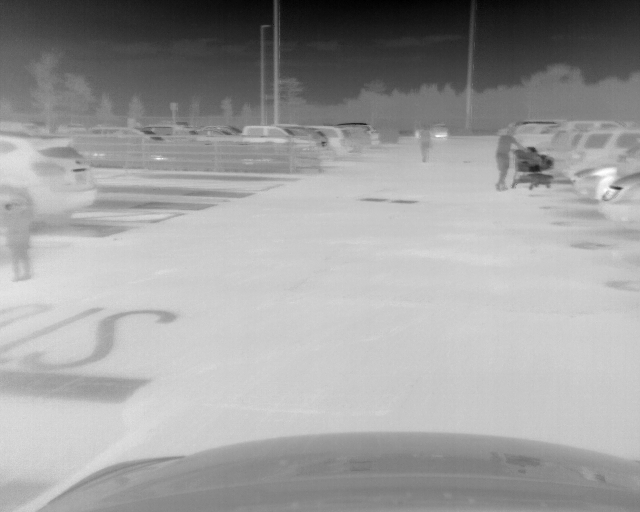car: (1, 134, 97, 227), (574, 136, 640, 205), (564, 127, 640, 181), (239, 123, 330, 167), (598, 172, 640, 229), (313, 124, 354, 162), (344, 122, 382, 154), (414, 121, 451, 142)
people: (2, 187, 34, 281), (493, 128, 527, 192), (418, 125, 434, 160)
